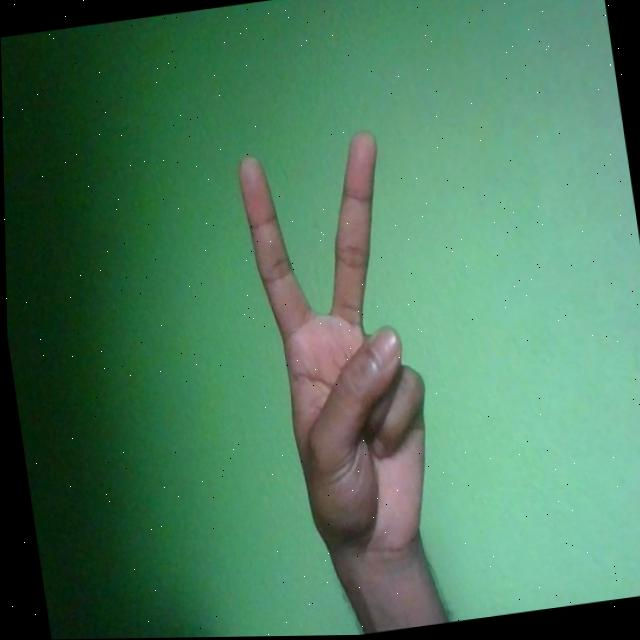Peace: (232, 125, 448, 582)
